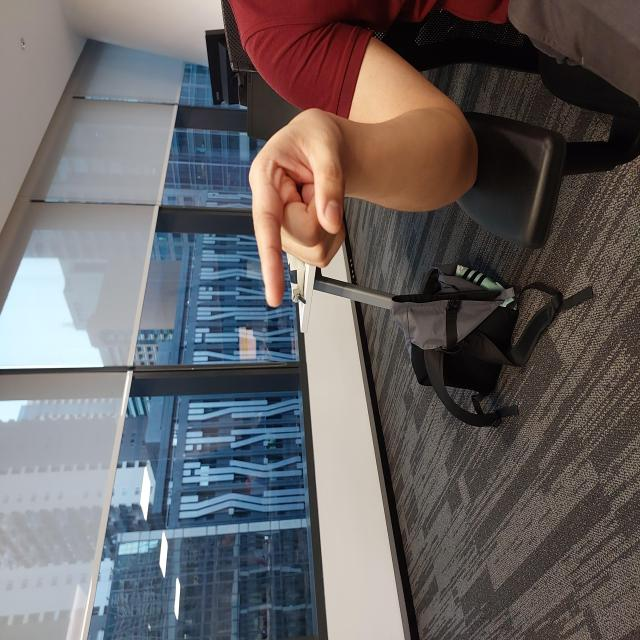Z: (330, 245, 536, 349)
